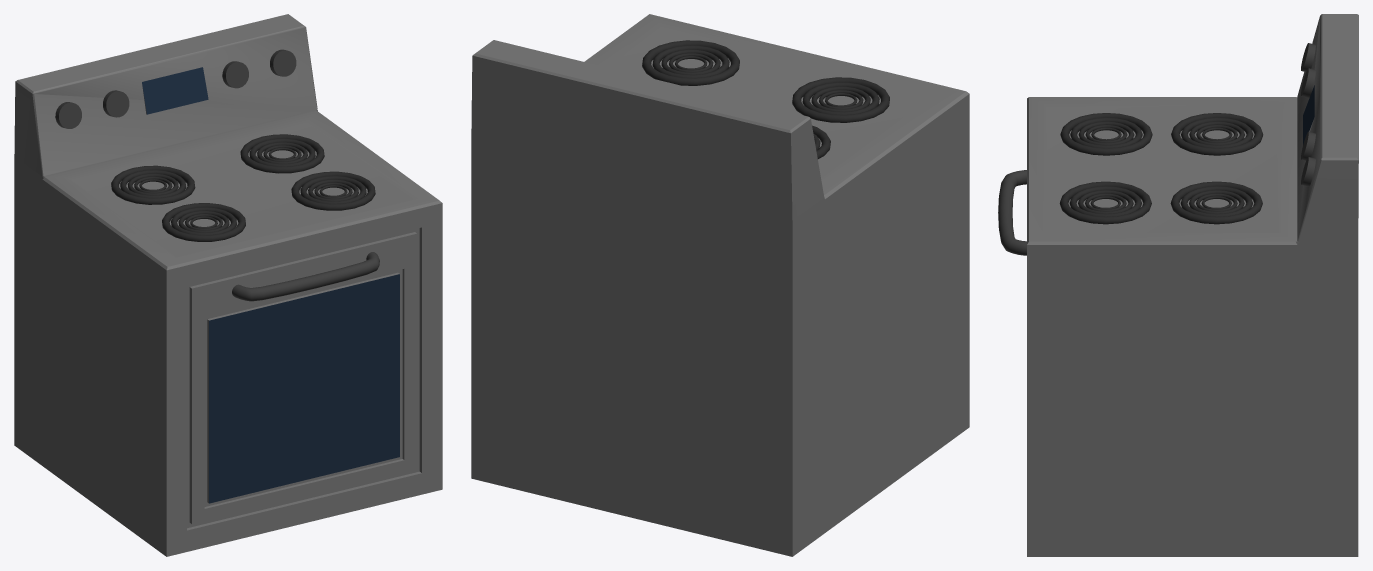
The model's file is Stove.fbx.
The picture shows the model from 3 angles, left to right: view 1: azimuth 30°, elevation 25°; view 2: azimuth 150°, elevation 25°; view 3: azimuth 270°, elevation 25°; orthographic projection. The views are drawn at different scales.
Parts seen in each view (by area): view 1: Stove; view 2: Stove; view 3: Stove.
Boxes of the visible parts, <box> form: Stove: <box>14,14,442,556</box>; Stove: <box>471,14,969,556</box>; Stove: <box>998,14,1358,556</box>.
Size of the model in its own units: 100 by 127 by 104.
